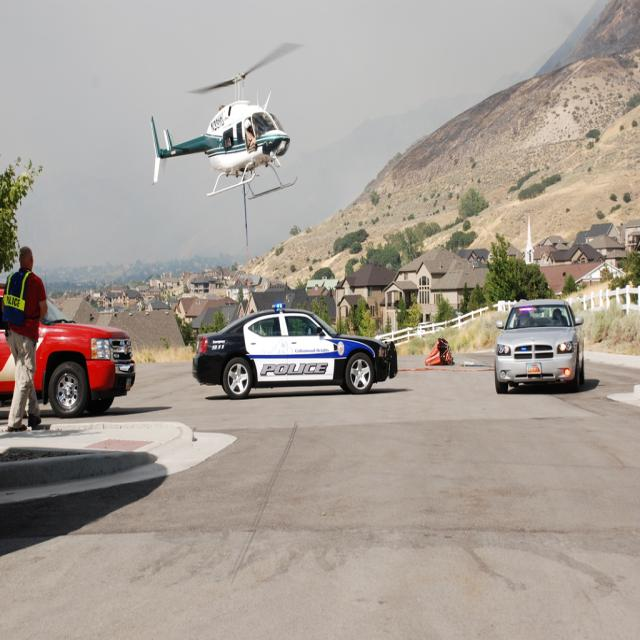car: (192, 300, 397, 399), (494, 297, 583, 393)
